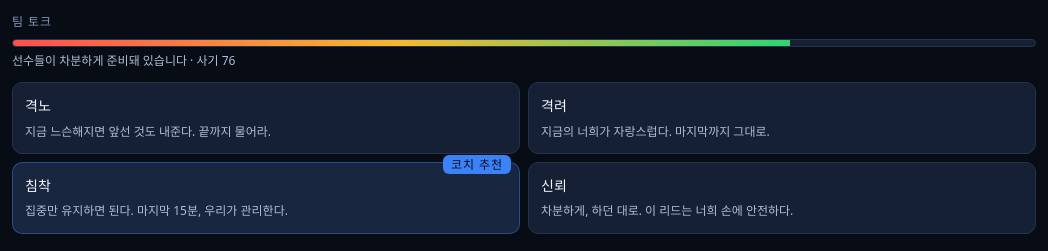
Test case: TeamTalk 컴포넌트 › 역효과(이기는 중 격노) → 저하 배너(-)
Click the button "격노 지금 느슨해지면 앞선 것도 내준다. 끝까지 물어라.".
click(148, 131)  # box [12, 82, 520, 154]
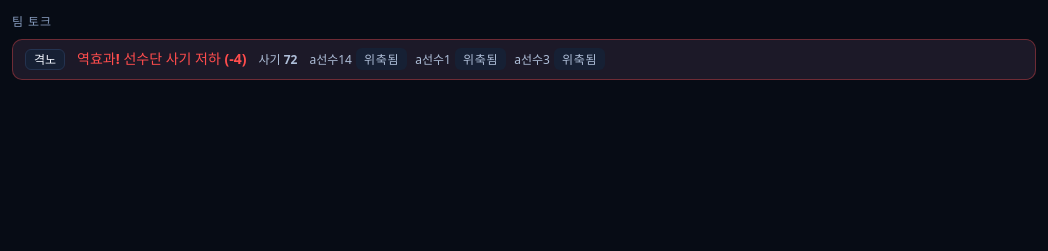
Expected: the message with class "tt-banner--down" is shown, [12, 39, 1036, 80]
Expected: the message with class "tt-banner--down" shows "역효과", [77, 49, 246, 68]
Expected: the message with class "tt-banner--down" shows "-4", [77, 49, 246, 68]
